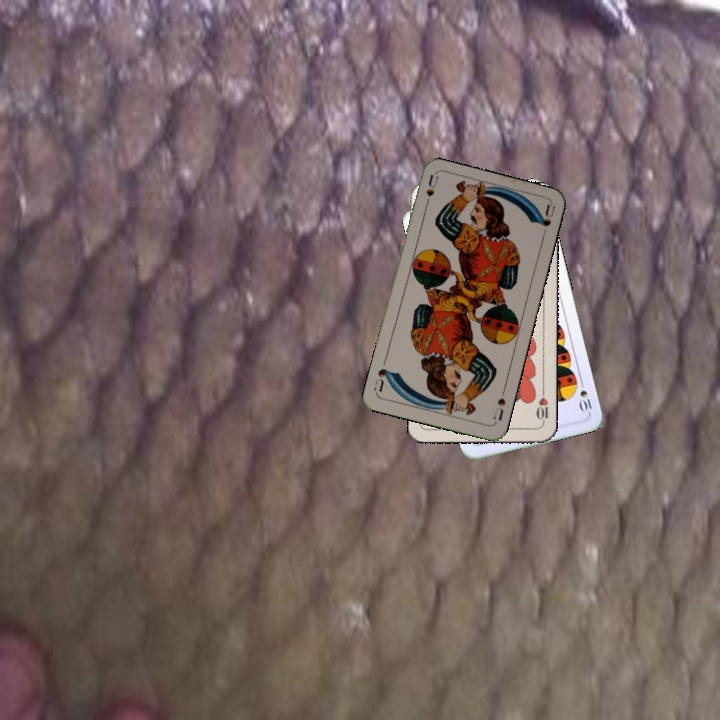H10: (532, 386, 551, 426)
S10: (575, 375, 594, 415)
SU: (420, 172, 441, 212), (489, 385, 508, 423)
